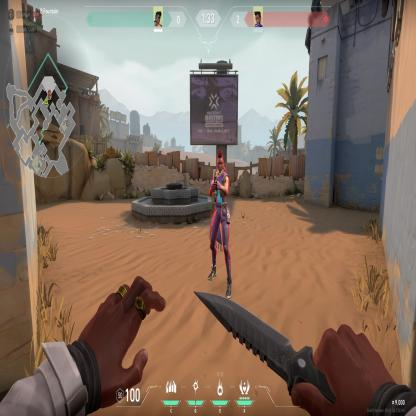enemy: (207, 147, 233, 299)
